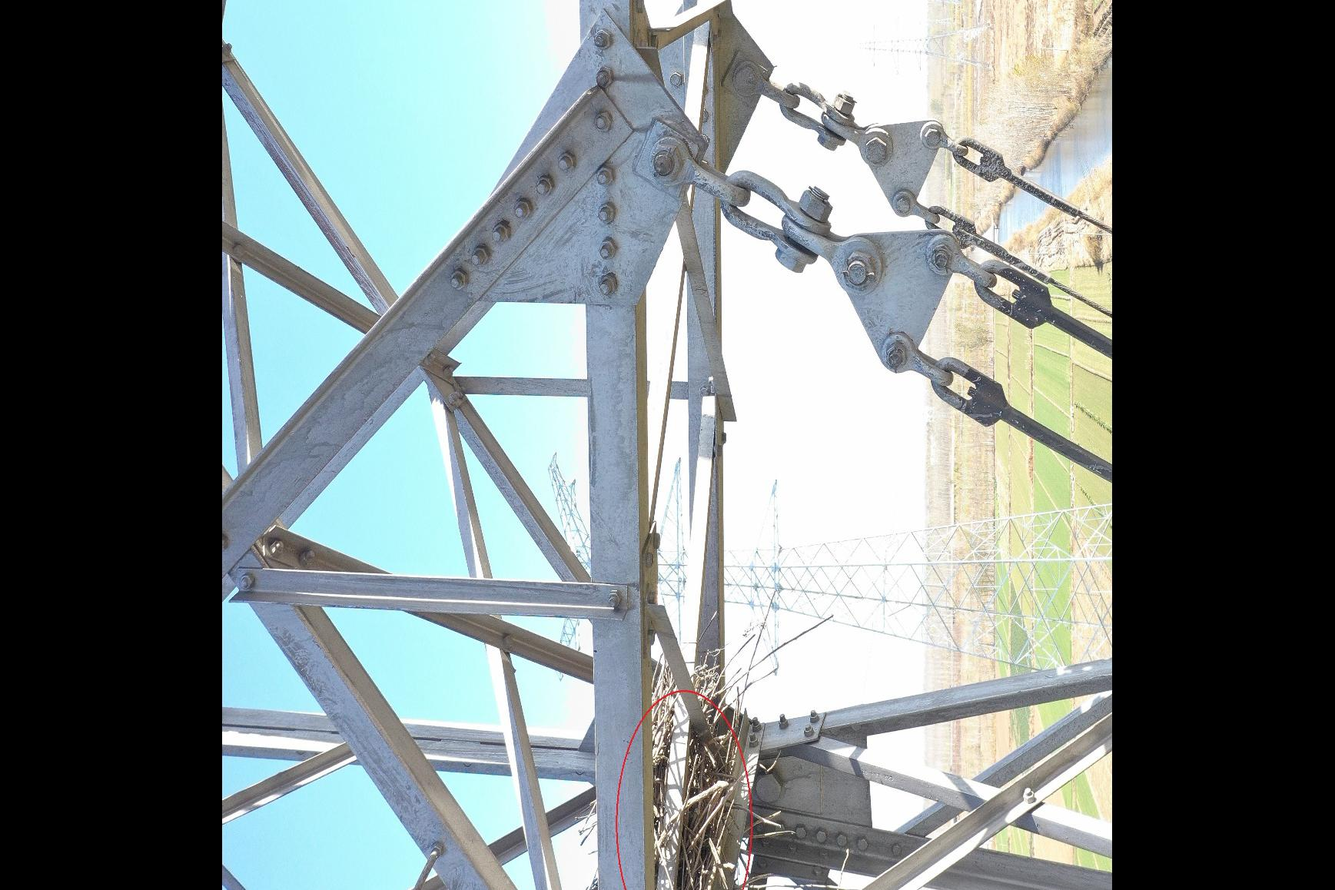nest: (635, 648, 764, 890)
